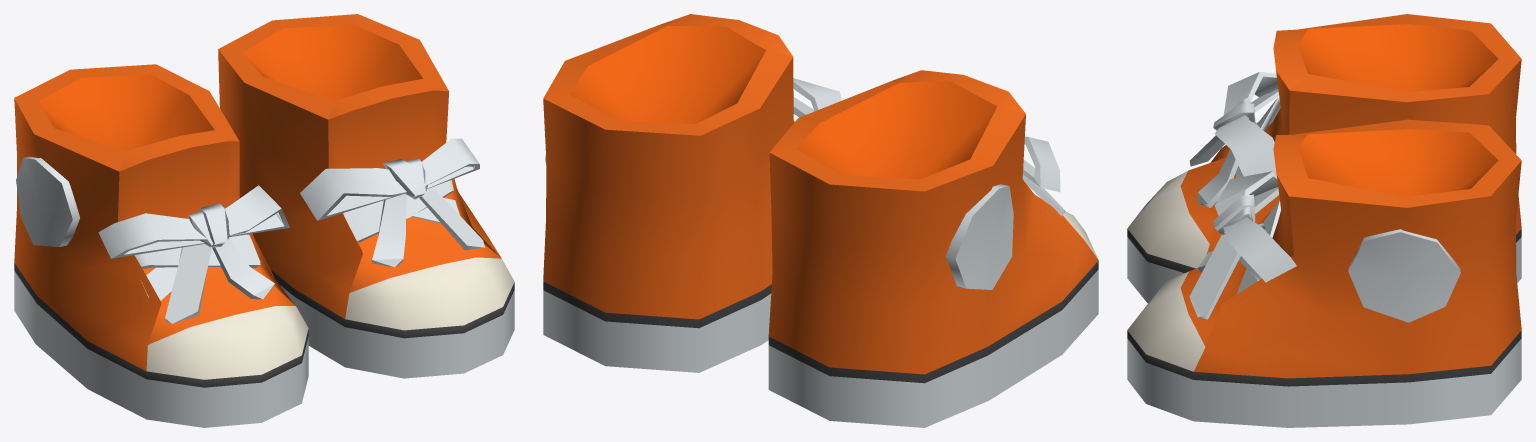
The model's file is Shoes_4.fbx.
The picture shows the model from 3 angles, left to right: view 1: azimuth 30°, elevation 25°; view 2: azimuth 150°, elevation 25°; view 3: azimuth 270°, elevation 25°; orthographic projection. The views are drawn at different scales.
Parts seen in each view (by area): view 1: Shoes_4; view 2: Shoes_4; view 3: Shoes_4.
Part boxes in pixels (left/top/right/bottom): Shoes_4: left=14, top=14, right=514, bottom=427; Shoes_4: left=543, top=14, right=1098, bottom=427; Shoes_4: left=1127, top=14, right=1521, bottom=427.
Size of the model in its own units: 39.4 by 21.6 by 33.17.
